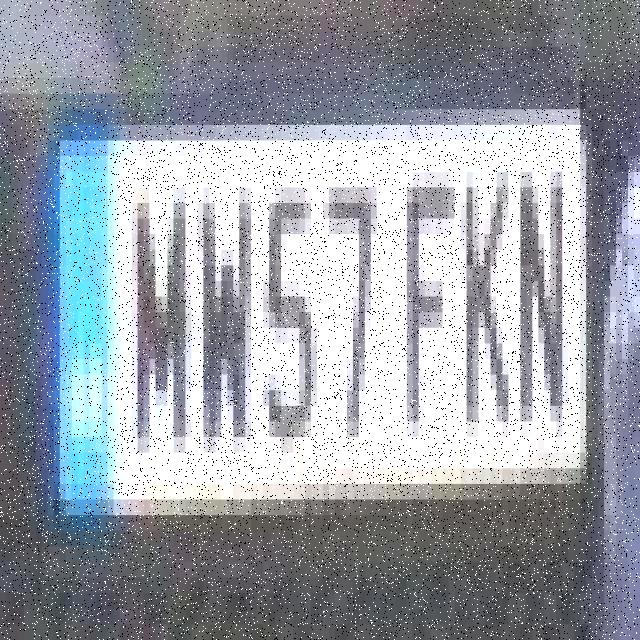licenseplate: (56, 108, 598, 506)
